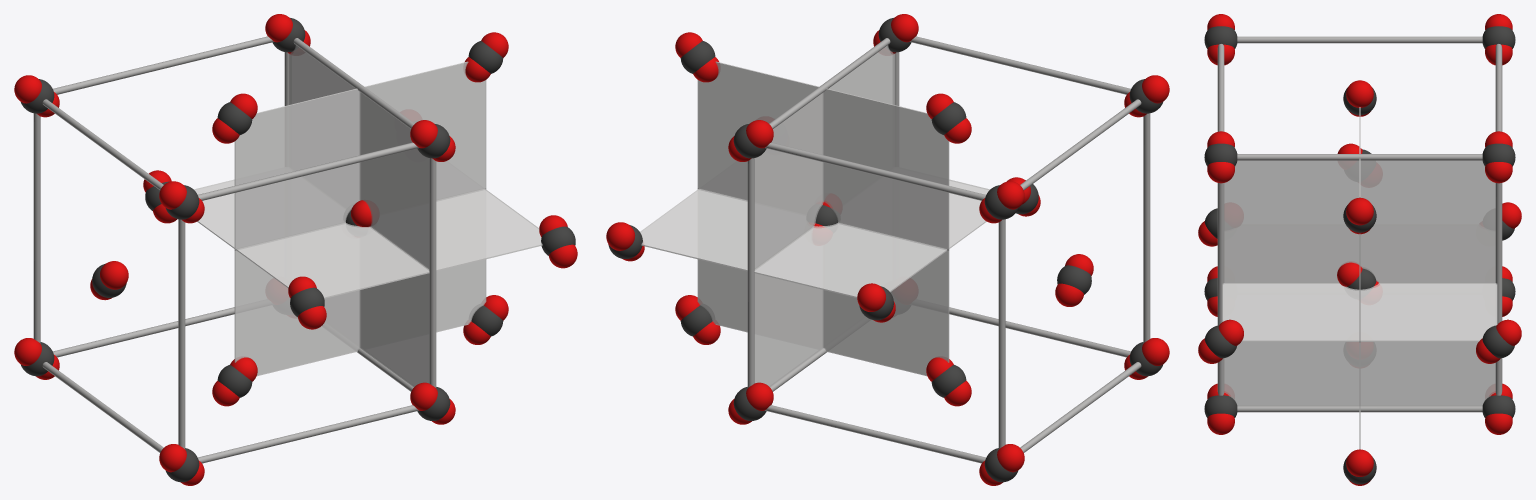
File: fenzijingtu2.FBX
3 renders of one model, left to right at view 1: azimuth 30°, elevation 25°; view 2: azimuth 150°, elevation 25°; view 3: azimuth 270°, elevation 25°, orthographic. The views are drawn at different scales.
Parts seen in each view (by area): view 1: F007; view 2: F007; view 3: F007.
Boxes of the visible parts, <box> form: F007: <box>14,14,577,485</box>; F007: <box>606,14,1169,485</box>; F007: <box>1198,14,1521,485</box>.
Size of the model in its own units: 83.27 by 58.27 by 58.27.
Materials: 2 (2 with a texture image).
